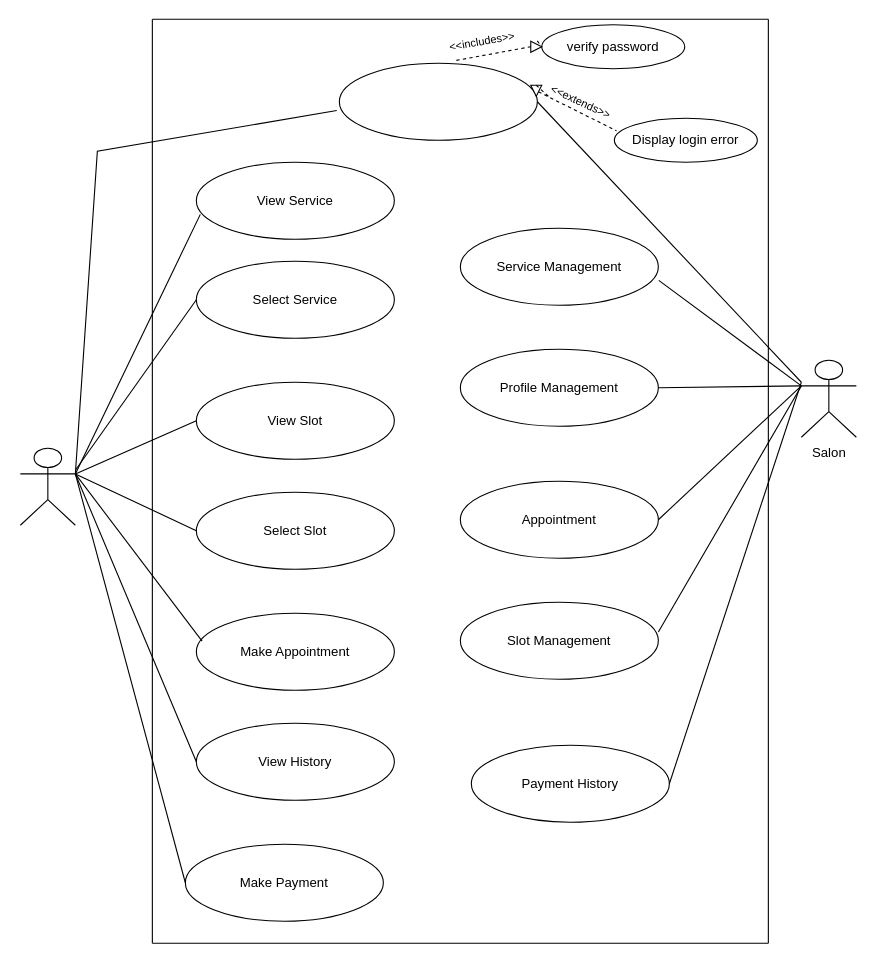
The diagram is 876 pixels wide and 964 high, and some of its shapes have lost their labels. The shapes that lost their labels are listed below. From the top down, each one's centre as x and y in pixels, then its label:
point (437, 101): Authentication
point (47, 486): Customer
